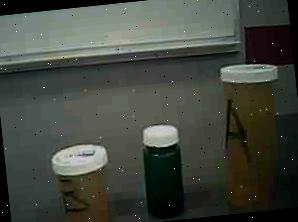Bottle A: (207, 55, 293, 214)
Bottle B: (44, 135, 118, 222)
Bottle C: (127, 117, 197, 222)
